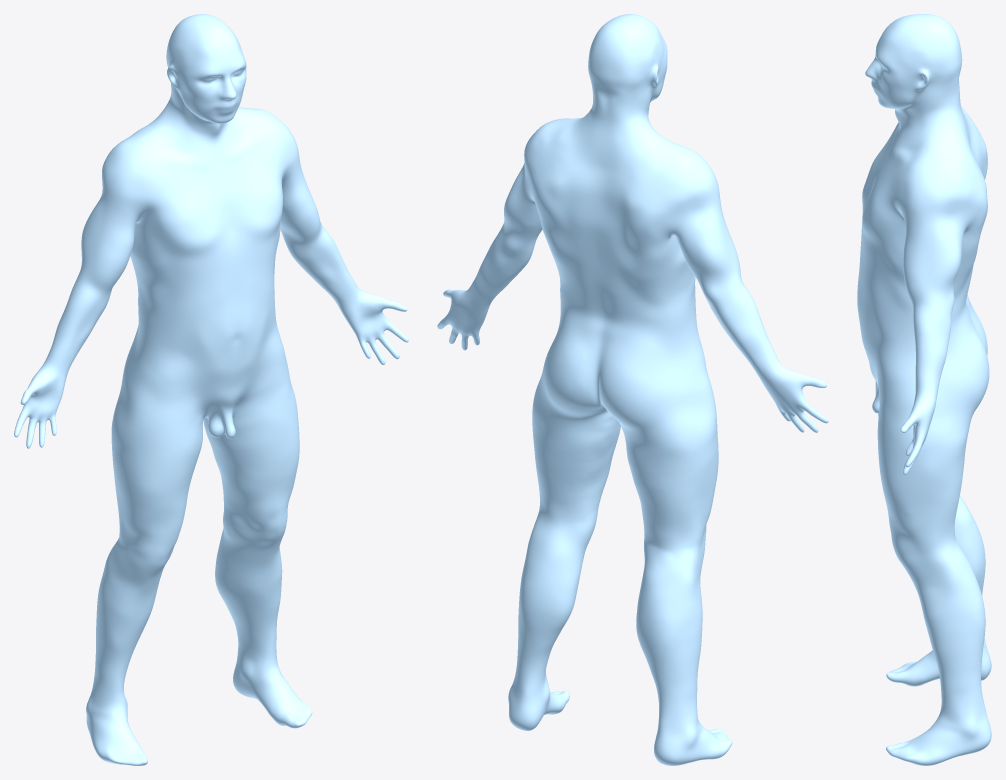
File: corvista_reference_patient.glb
3 renders of one model, left to right at view 1: azimuth 30°, elevation 25°; view 2: azimuth 150°, elevation 25°; view 3: azimuth 270°, elevation 25°, orthographic. The views are drawn at different scales.
Visible parts, largest first — view 1: VH_M_skin; view 2: VH_M_skin; view 3: VH_M_skin.
Boxes of the visible parts, x1,y1,x2,y2 form: VH_M_skin: [14, 14, 408, 765]; VH_M_skin: [437, 14, 828, 765]; VH_M_skin: [857, 14, 991, 765].
Size of the model in its own units: 1.05 by 1.83 by 0.3162.
